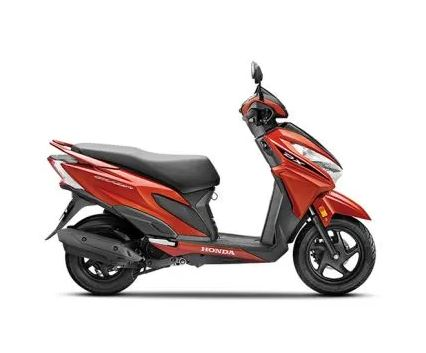bike: (42, 60, 376, 300)
